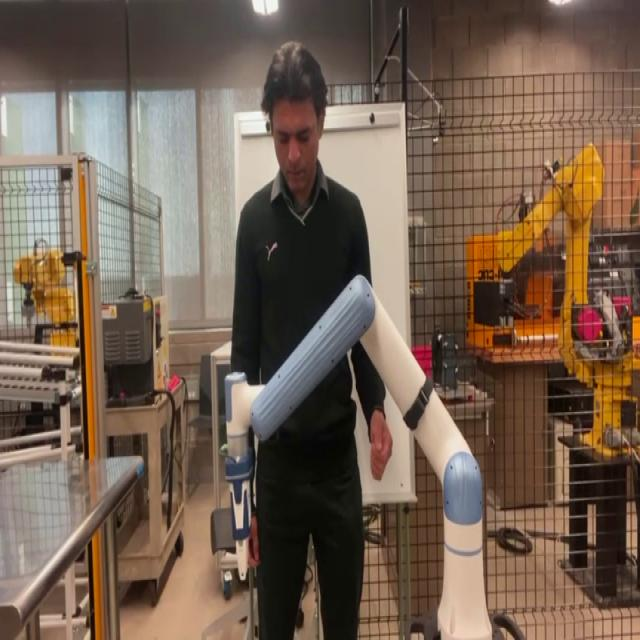robot: (212, 271, 525, 637)
